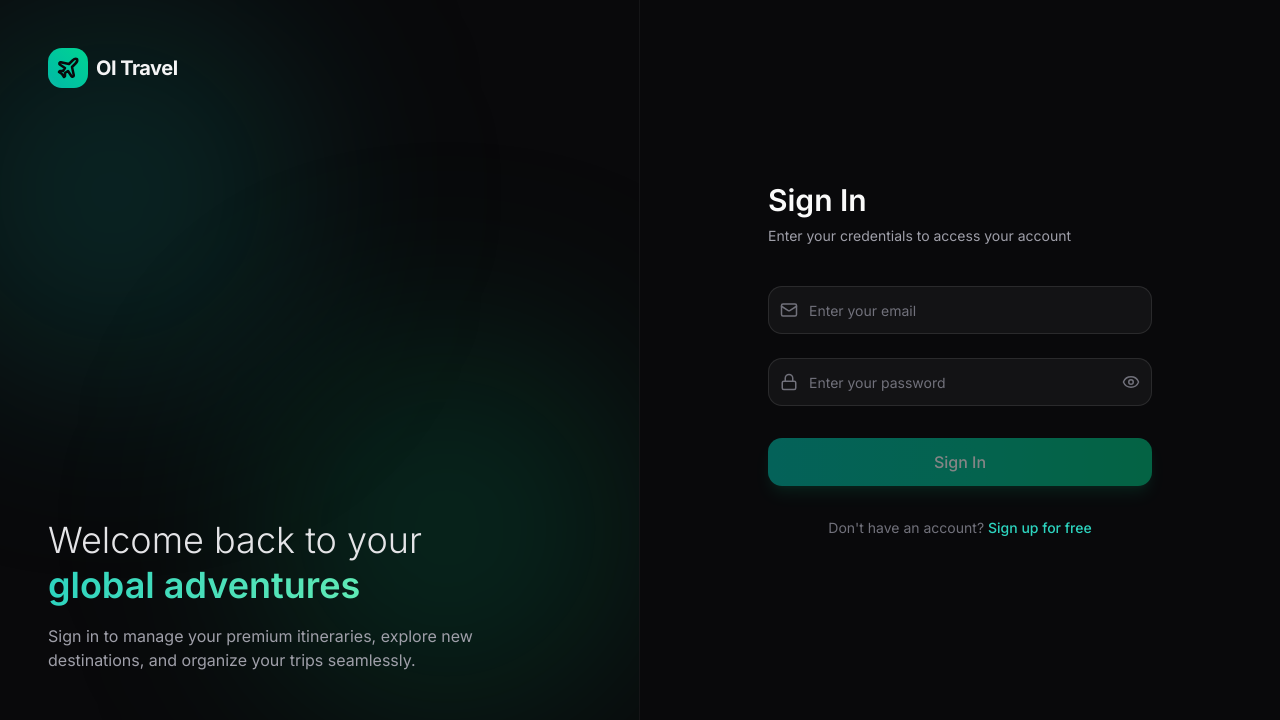
it: LoginPage › shows an error message if login fails
The width and height of the screenshot is (1280, 720).
Step 1. Type "test@example.com" into the field with test id "login-email-input" → (960, 310), box 768,286 -> 1152,334
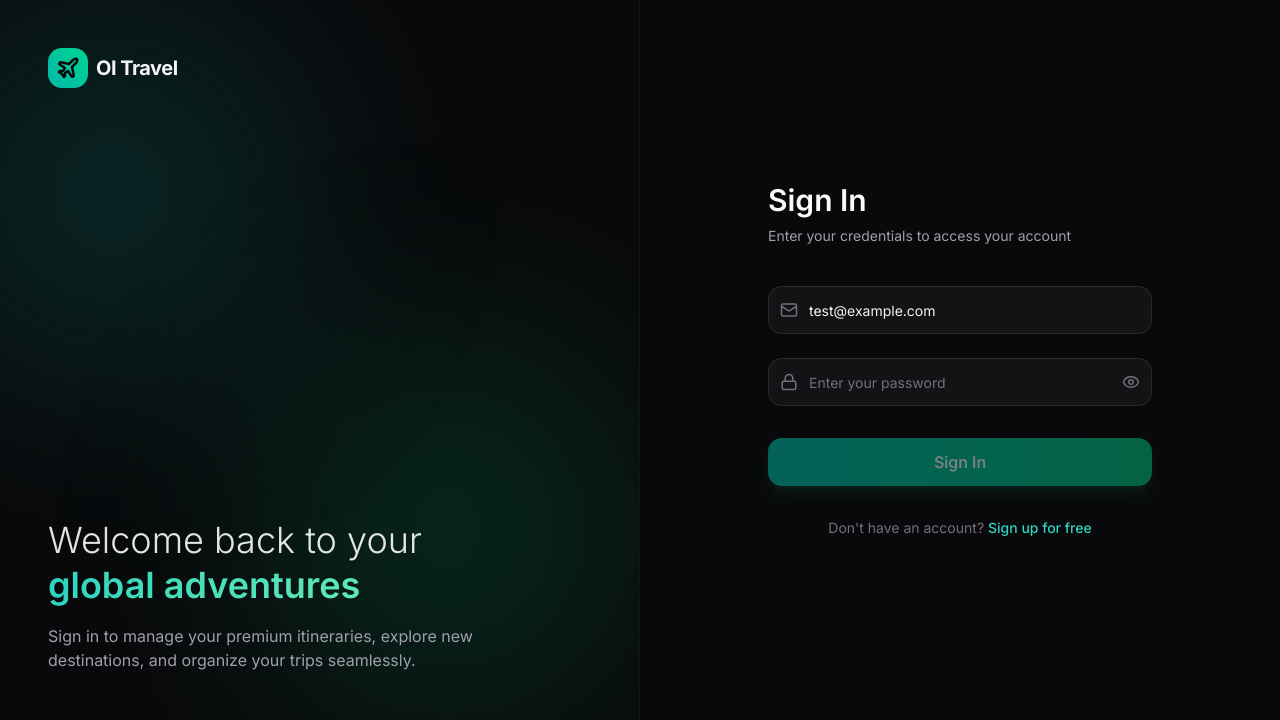
Step 2. Type "wrongpassword" into the password field with test id "login-password-input" → (960, 382), box 768,358 -> 1152,406
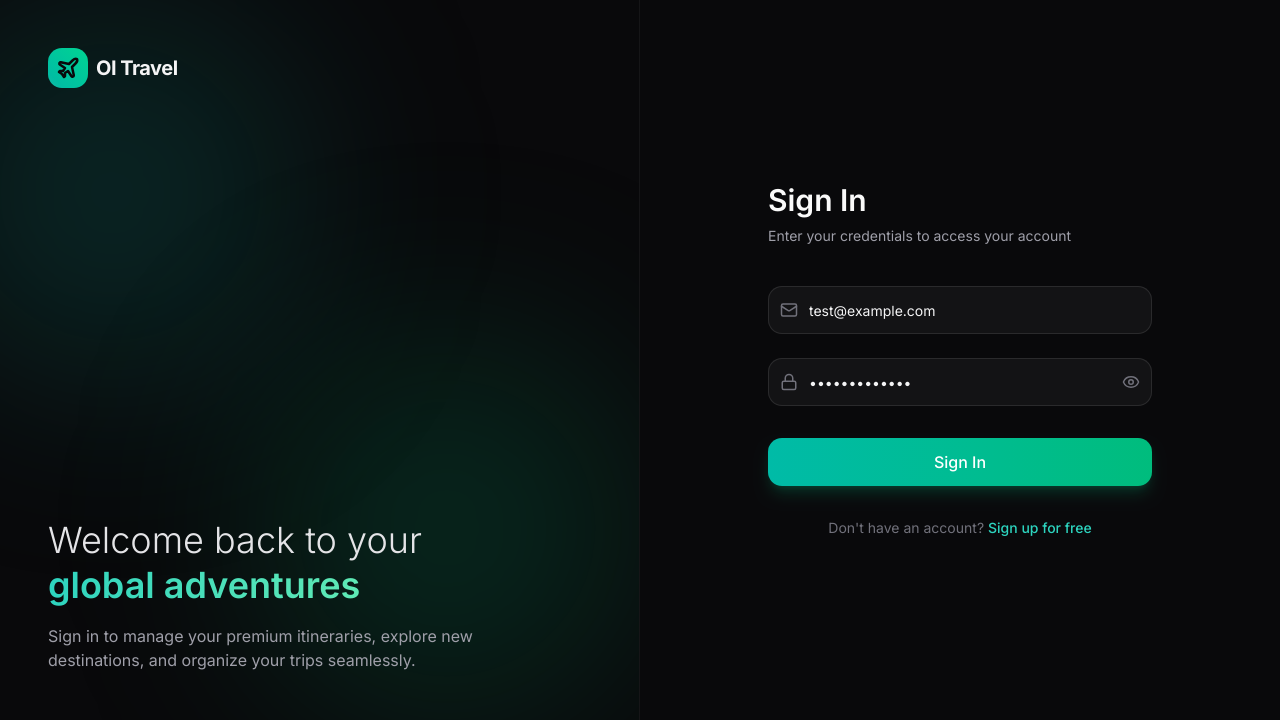
Step 3. Click the button with test id "login-submit-button" → (960, 462), box 768,438 -> 1152,486
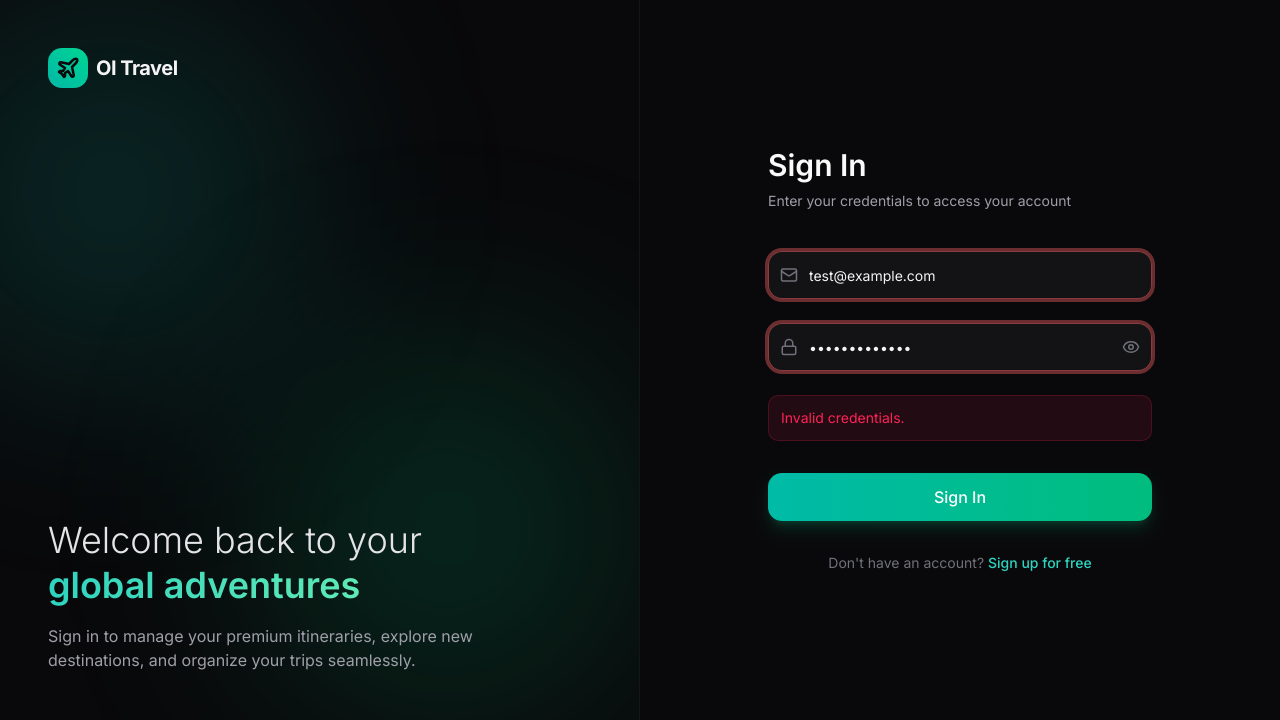
Expected: the text "Invalid credentials." is shown, 768,395 -> 1152,441
